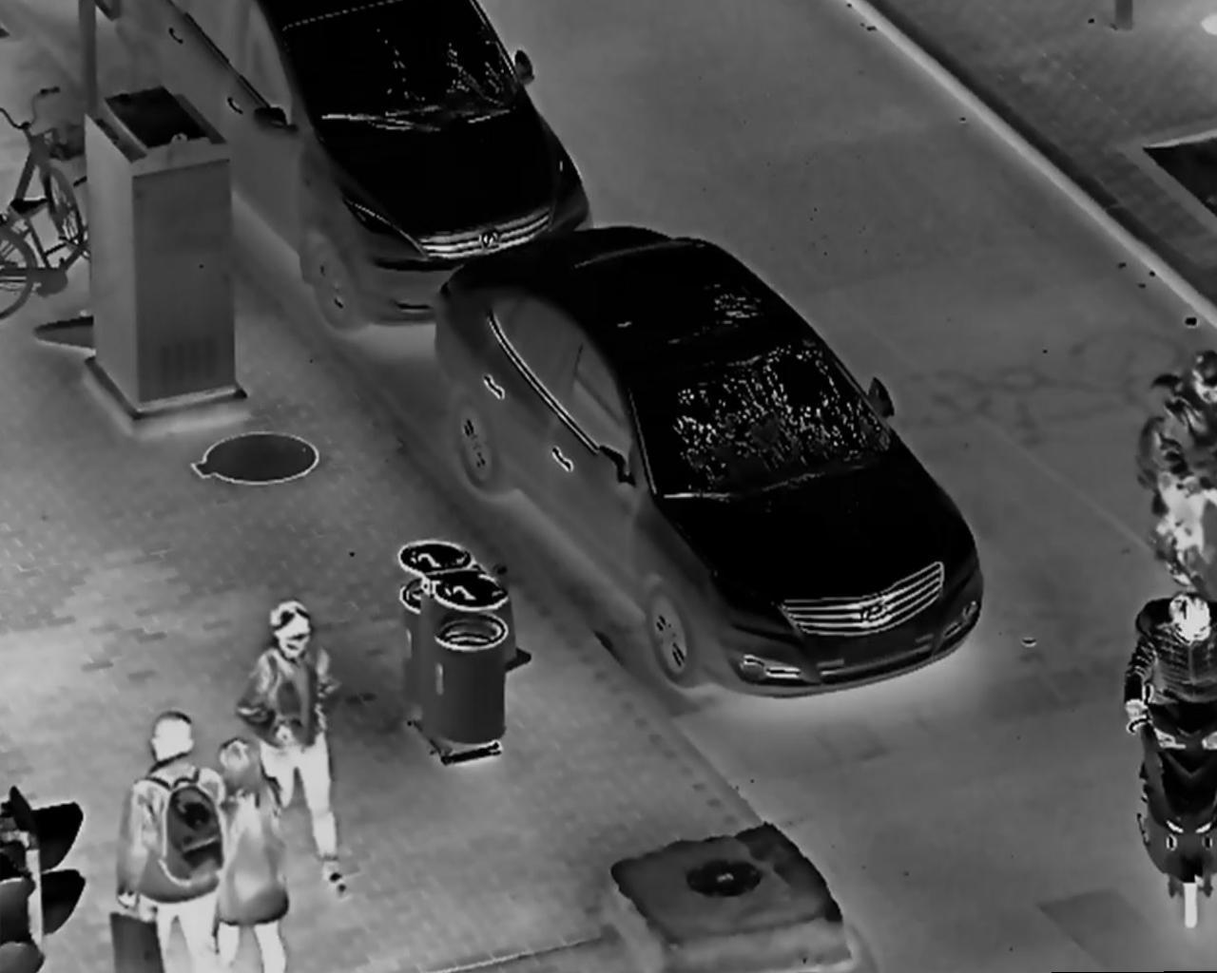person: (232, 596, 364, 910), (105, 706, 230, 973), (1115, 582, 1217, 877), (202, 726, 301, 973), (1149, 335, 1217, 537)
